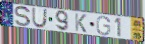1: (114, 17, 122, 38)
9: (54, 10, 70, 32)
G: (96, 15, 112, 37)
K: (74, 12, 88, 34)
S: (14, 6, 32, 28)
U: (31, 7, 49, 29)
